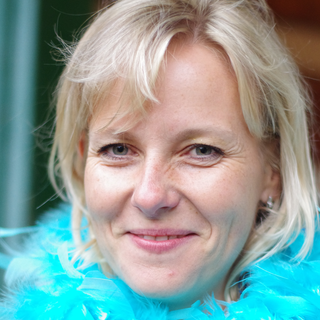eye: (169, 139, 232, 169), (91, 140, 146, 166)
